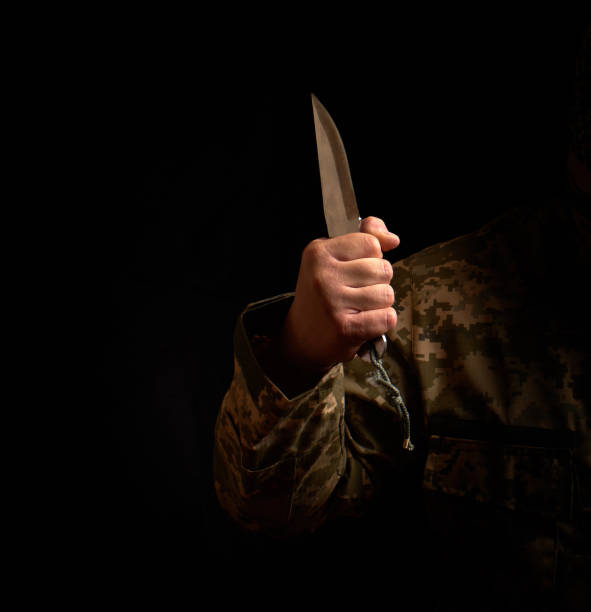knife: (305, 88, 394, 368)
